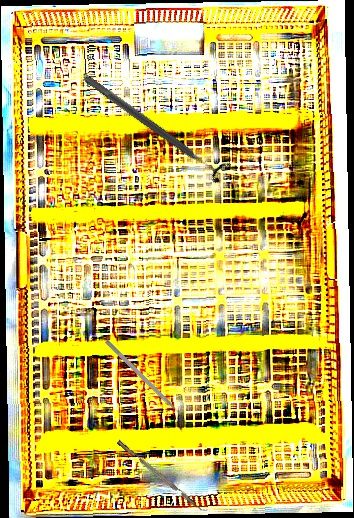Chopper: (116, 435, 210, 516), (100, 339, 187, 425)
Fixation Ring: (76, 66, 234, 187)
